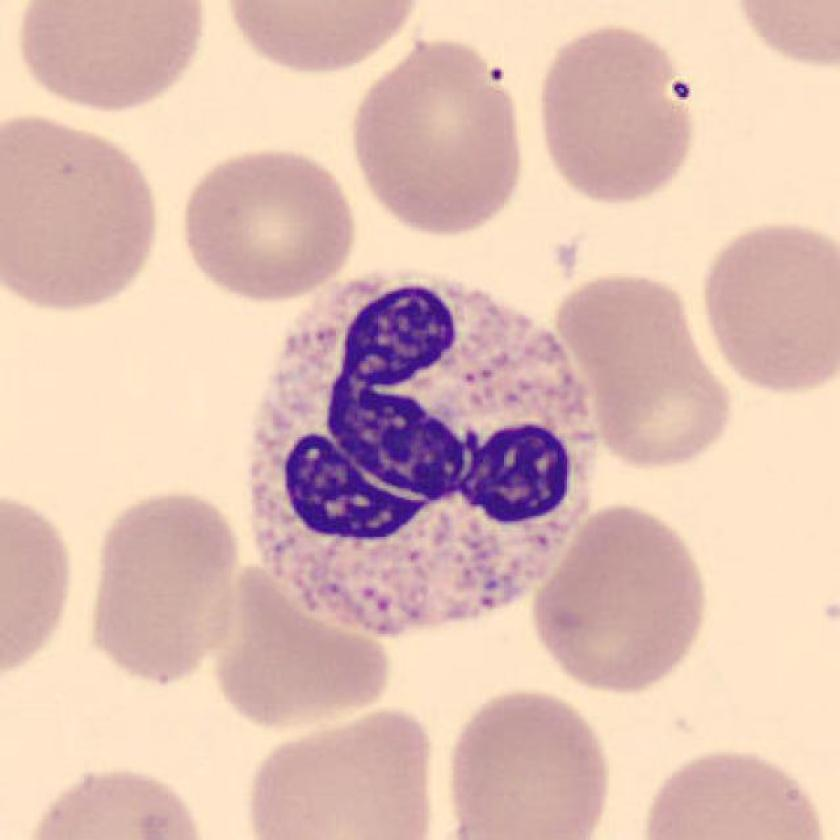neutrophil: (252, 273, 597, 634)
